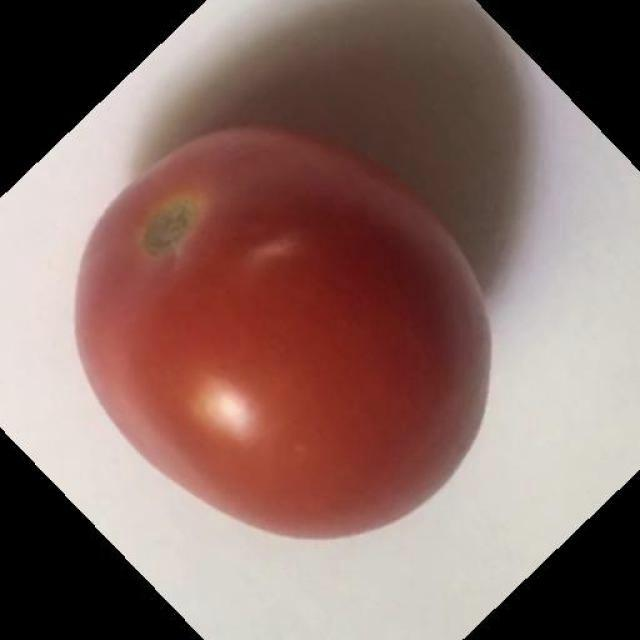tomato: (70, 123, 498, 545)
